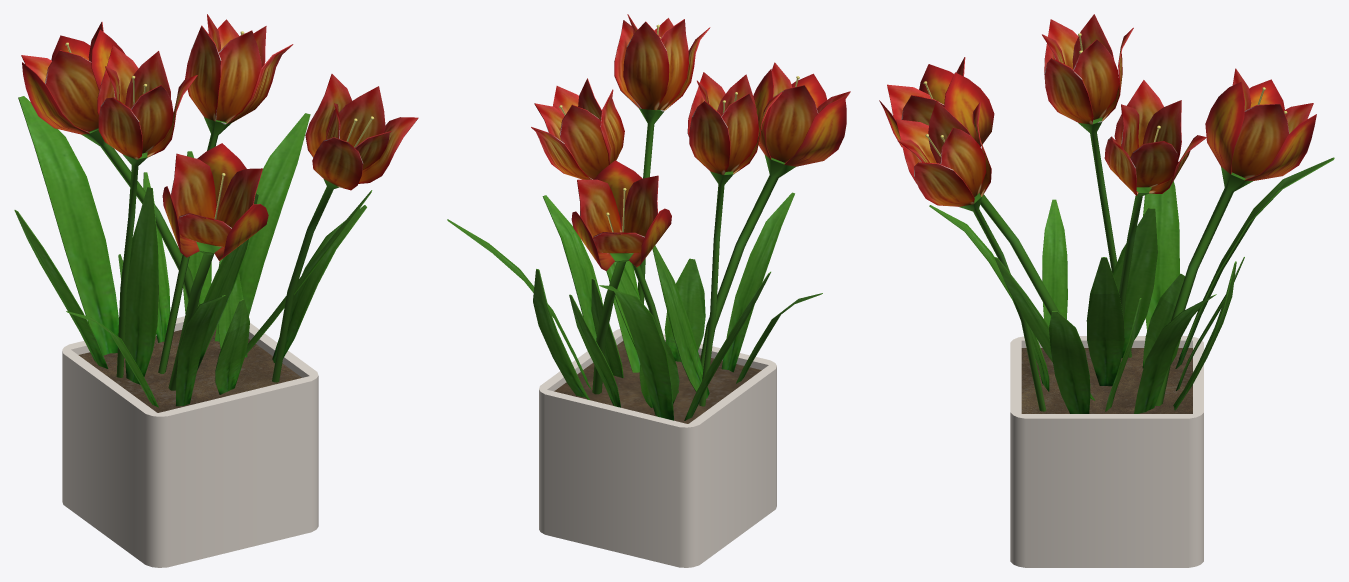
Rendered from PotFlowers02_2.FBX.
3 views of the same model, side by side, from view 1: azimuth 30°, elevation 25°; view 2: azimuth 150°, elevation 25°; view 3: azimuth 270°, elevation 25° (orthographic). The views are drawn at different scales.
Visible parts, largest first — view 1: PotFlowers02_2; view 2: PotFlowers02_2; view 3: PotFlowers02_2.
Boxes of the visible parts, x1=… form: PotFlowers02_2: x1=14, y1=14, x2=418, y2=567; PotFlowers02_2: x1=447, y1=14, x2=850, y2=567; PotFlowers02_2: x1=879, y1=14, x2=1334, y2=567.
Bounding box in the file's own units: 0.222 × 0.3118 × 0.2738.
